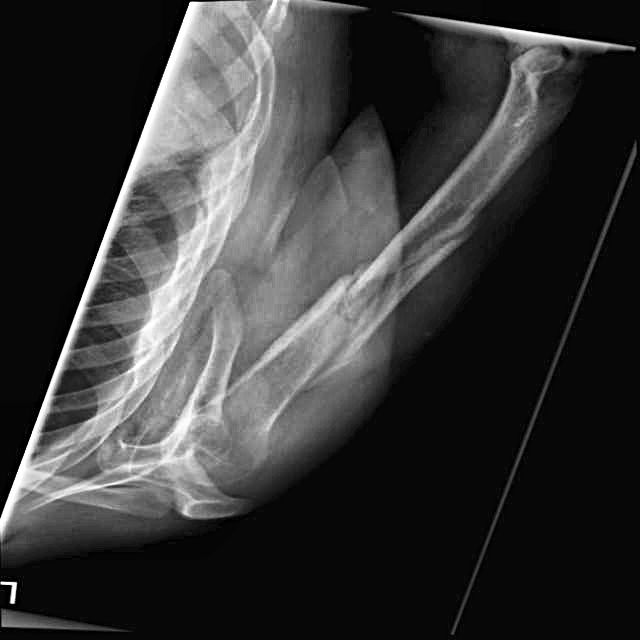Spiral: (277, 236, 438, 394)
